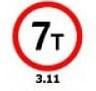road_sign: (13, 2, 81, 70)
